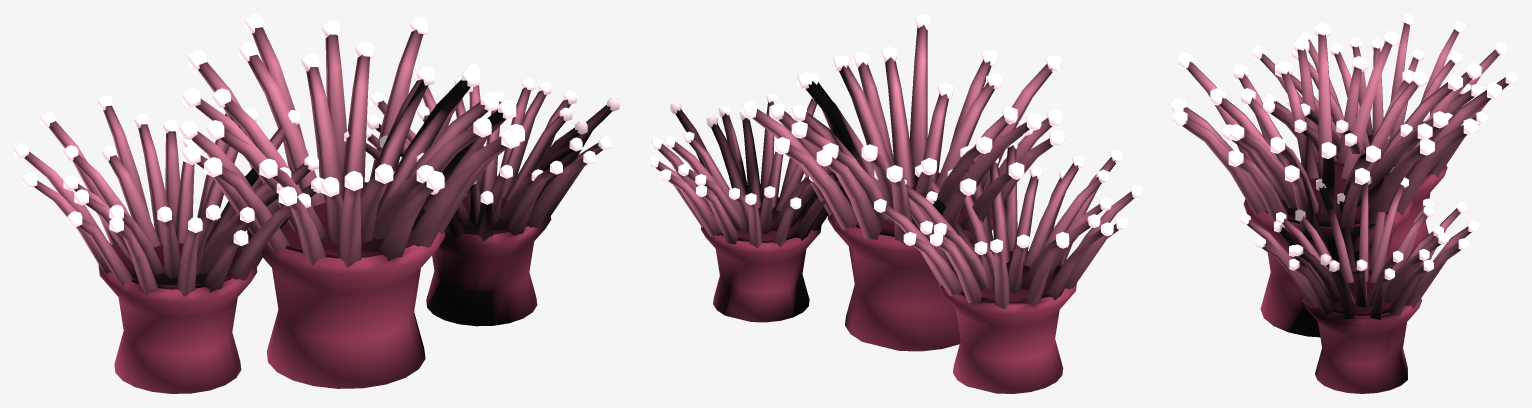
Rendered from anemone_patch.glb.
The picture shows the model from 3 angles, left to right: view 1: azimuth 30°, elevation 25°; view 2: azimuth 150°, elevation 25°; view 3: azimuth 270°, elevation 25°; orthographic projection. The views are drawn at different scales.
Visible parts, largest first — view 1: anemone_patch_mesh; view 2: anemone_patch_mesh; view 3: anemone_patch_mesh.
Boxes of the visible parts, box(x1,y1,x2,y2) form: anemone_patch_mesh: box(14, 14, 619, 393); anemone_patch_mesh: box(648, 14, 1142, 393); anemone_patch_mesh: box(1171, 14, 1517, 393).
Bounding box in the file's own units: 1.6 × 0.7513 × 1.02.
